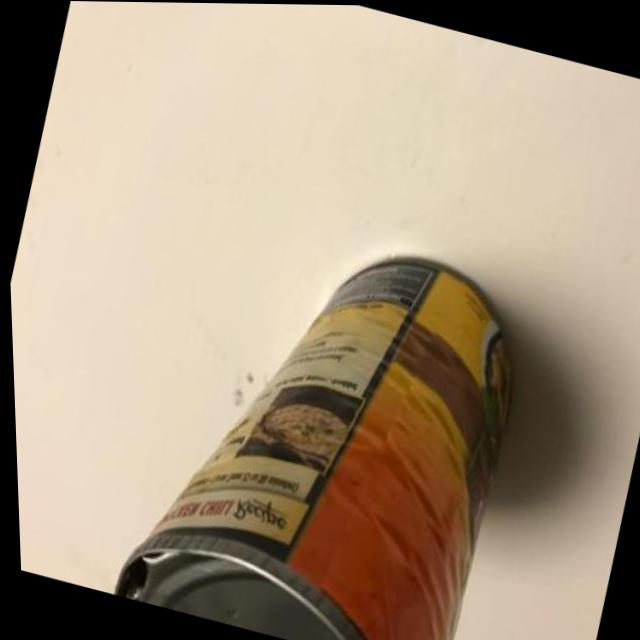metal: (118, 258, 509, 639)
